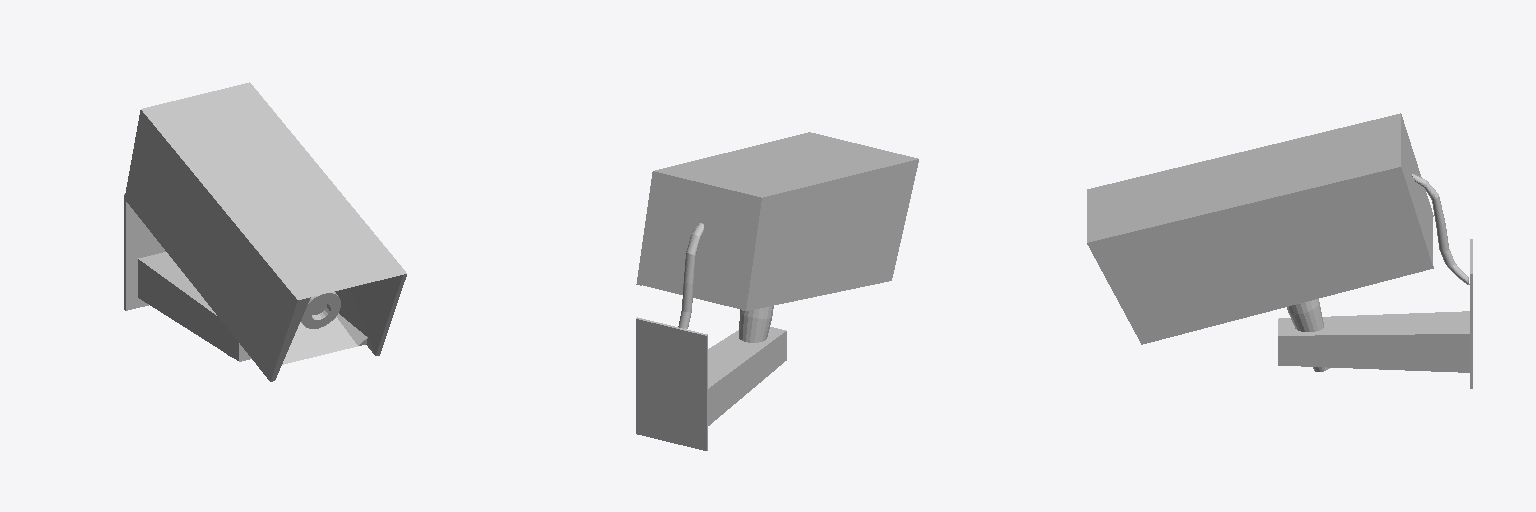
Rendered from SecurityCamera.obj.
3 views of the same model, side by side, from view 1: azimuth 30°, elevation 25°; view 2: azimuth 150°, elevation 25°; view 3: azimuth 270°, elevation 25° (orthographic).
Visible parts, largest first — view 1: polySurface3; view 2: polySurface3; view 3: polySurface3.
Part boxes in pixels (bbox=[...]): polySurface3: bbox=[124, 82, 406, 381]; polySurface3: bbox=[636, 132, 918, 450]; polySurface3: bbox=[1087, 113, 1472, 388].
Size of the model in its own units: 5.56 by 11.24 by 16.99.